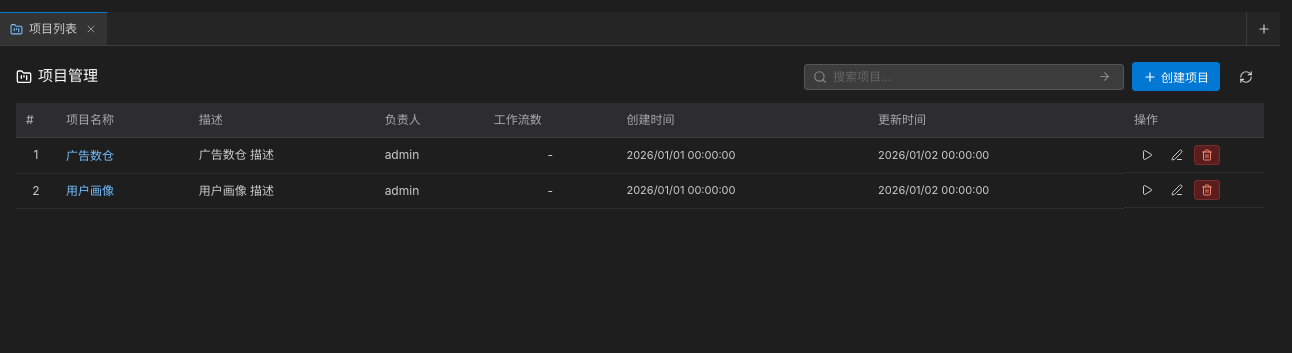
Test: 调度管理多标签页 › 进入项目后标签标题变为项目名，其它标签页不受影响
Expected: the button "广告数仓" is shown, [66,146,114,163]
Click the button with class "sm-tabbar__new" at (1263, 28), box [1246,12,1280,45]
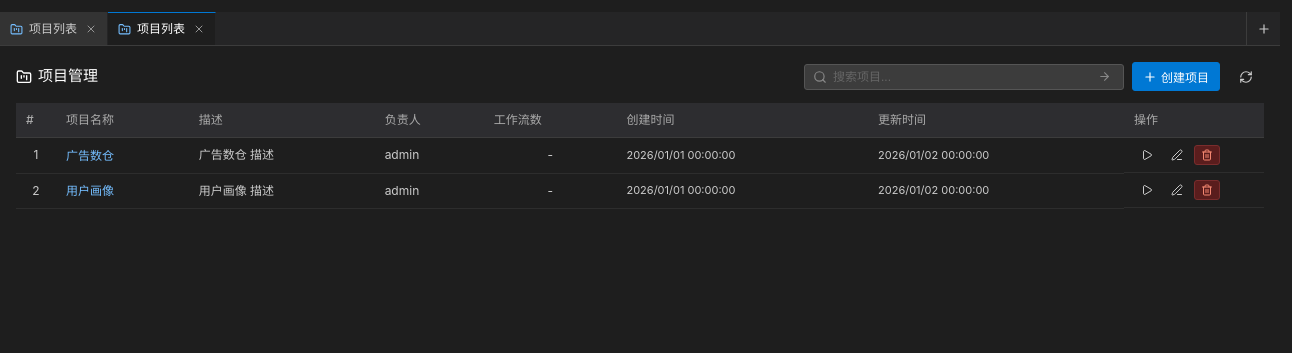
Click the button "用户画像" at (90, 190), box [66,181,114,198]
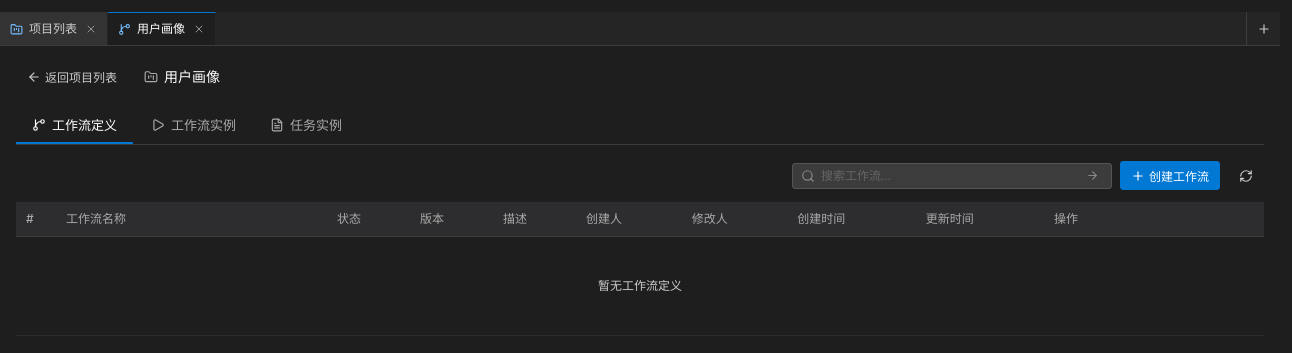
Result: the 1st text with class "sm-tab__label" reads "用户画像" at [137,21,185,36]
